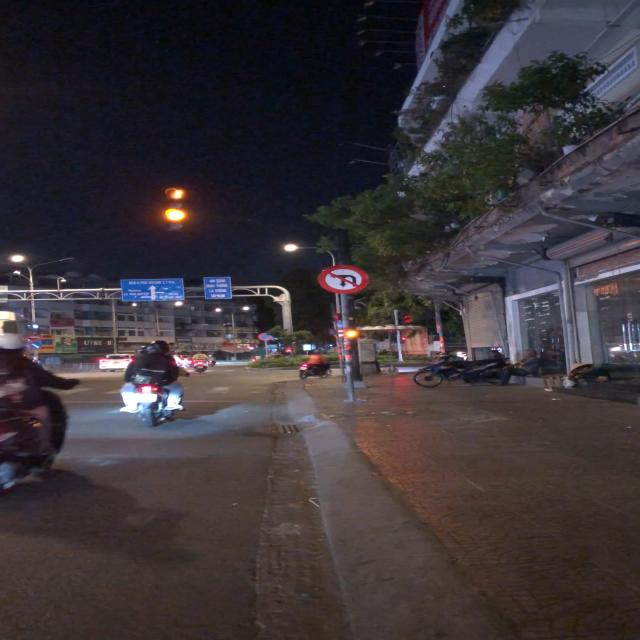Bien bao cam re trai va quay dau: (314, 264, 371, 295)
